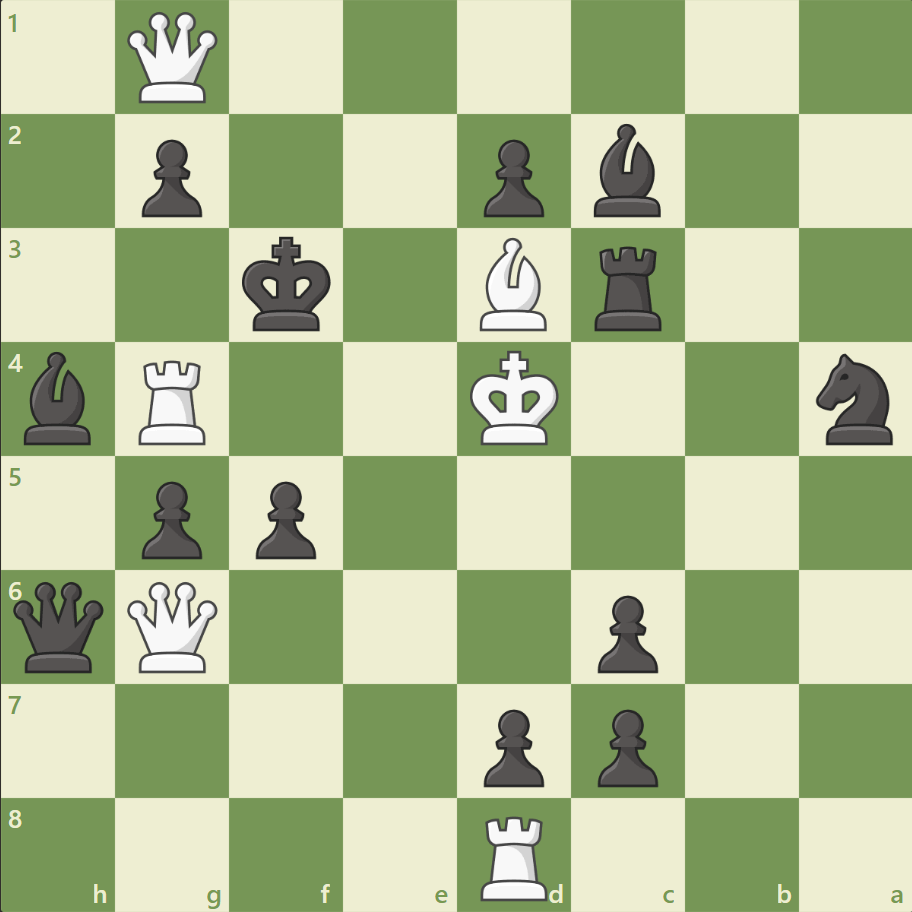B: (471, 233, 555, 336)
K: (465, 344, 565, 452)
Q: (124, 576, 223, 676), (124, 9, 223, 108)
R: (473, 806, 556, 904), (133, 352, 215, 449)
b: (17, 347, 101, 449), (585, 120, 669, 222)
k: (238, 231, 338, 339)
n: (806, 348, 903, 450)
p: (474, 700, 549, 791), (247, 473, 322, 564), (133, 473, 208, 564), (474, 132, 549, 223), (133, 132, 208, 223), (588, 700, 662, 791), (588, 586, 662, 677)
q: (10, 576, 109, 676)
r: (587, 239, 670, 336)
